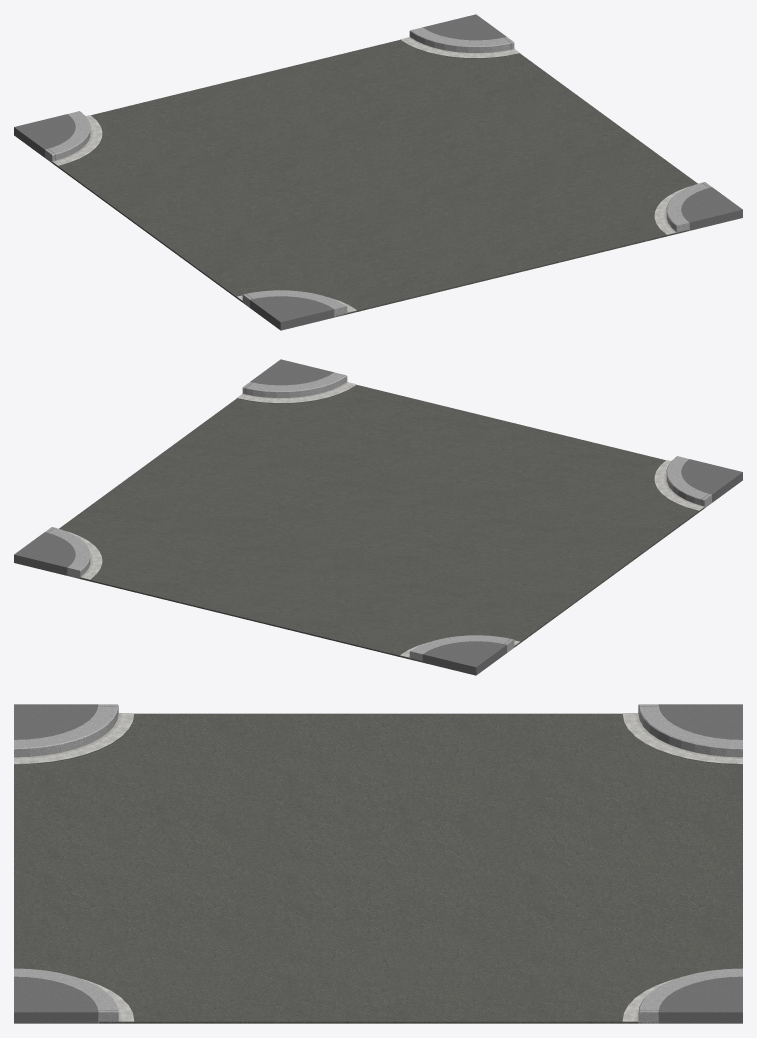
The model's file is sweethome3d-scopia-crossroad-2x2-lanes.glb.
3 renders of one model, top to bottom at view 1: azimuth 30°, elevation 25°; view 2: azimuth 150°, elevation 25°; view 3: azimuth 270°, elevation 25°, orthographic. The views are drawn at different scales.
Parts seen in each view (by area): view 1: croisement2et2_Plane.029; view 2: croisement2et2_Plane.029; view 3: croisement2et2_Plane.029.
Boxes of the visible parts, left/top/right/bottom form: croisement2et2_Plane.029: left=14, top=14, right=742, bottom=330; croisement2et2_Plane.029: left=14, top=359, right=742, bottom=675; croisement2et2_Plane.029: left=14, top=704, right=742, bottom=1023.
Bounding box in the file's own units: 1045 × 18 × 1045.
Materials: 13 (13 with a texture image).
